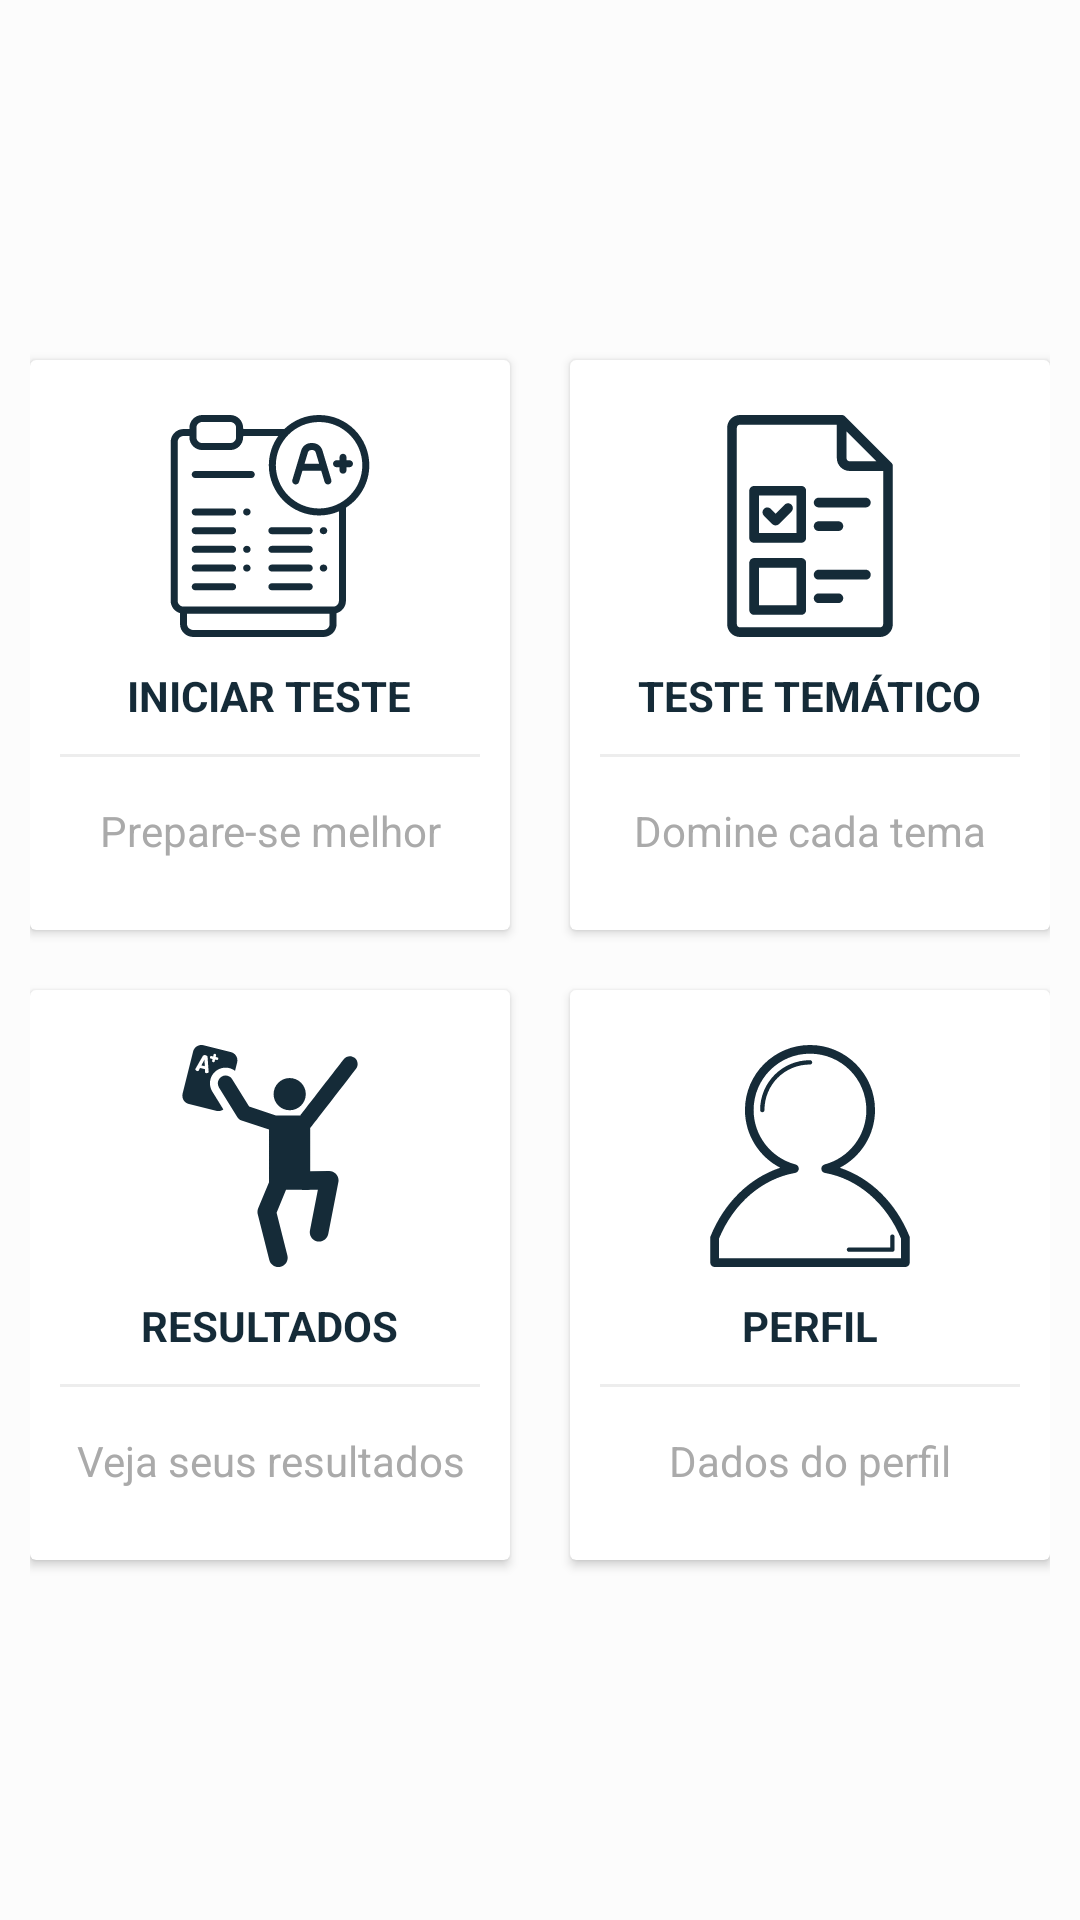

Icons on this 1080 × 1920 Android screen, each with its box as detection(x1, y1, x2, y2):
exam: detection(727, 415, 893, 637)
exame novo: detection(170, 415, 370, 637)
